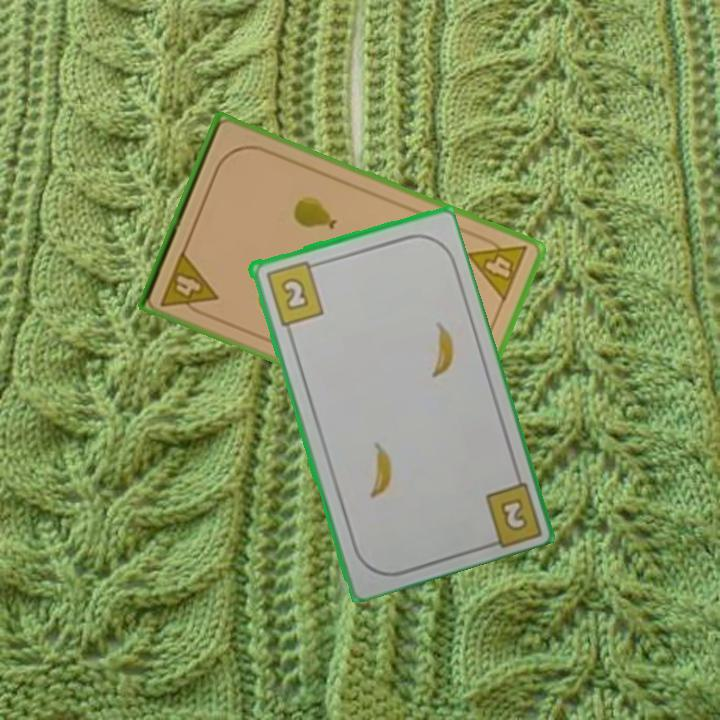2b: (262, 257, 326, 328), (496, 494, 531, 535)
4p: (464, 229, 531, 305), (157, 247, 221, 320)
